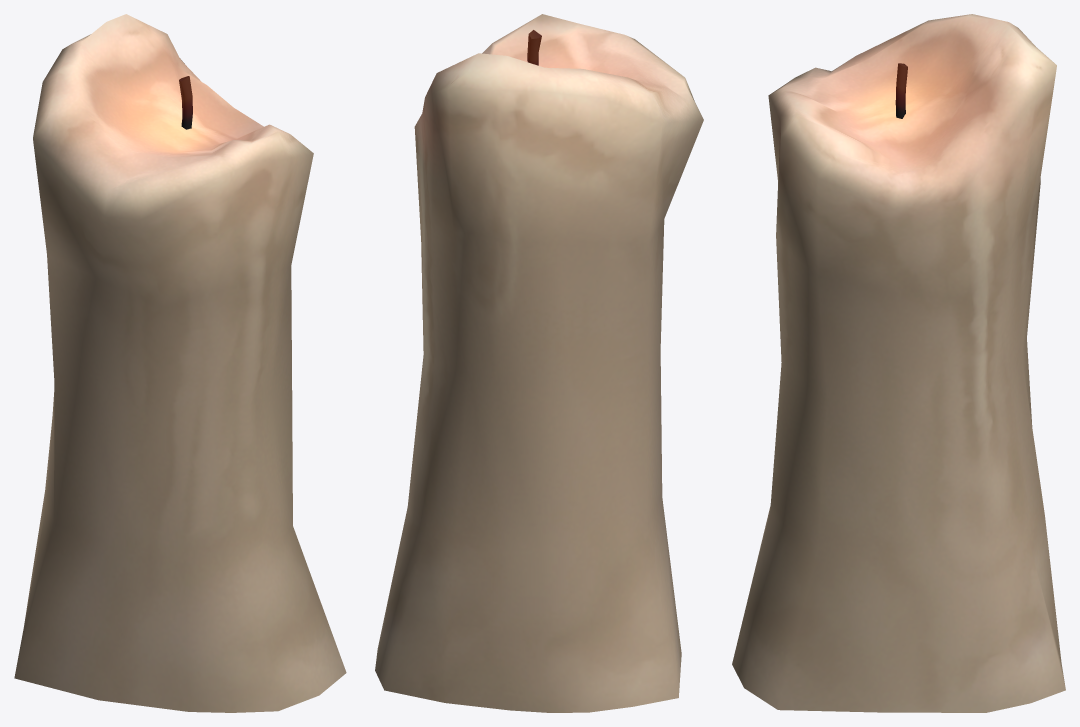
Rendered from SM_Candles_03.fbx.
3 renders of one model, left to right at view 1: azimuth 30°, elevation 25°; view 2: azimuth 150°, elevation 25°; view 3: azimuth 270°, elevation 25°, orthographic. The views are drawn at different scales.
Visible parts, largest first — view 1: SM_Castle_Candle_03_LOD0; view 2: SM_Castle_Candle_03_LOD0; view 3: SM_Castle_Candle_03_LOD0.
Part boxes in pixels (bbox=[...]): SM_Castle_Candle_03_LOD0: bbox=[14, 14, 346, 712]; SM_Castle_Candle_03_LOD0: bbox=[375, 14, 703, 712]; SM_Castle_Candle_03_LOD0: bbox=[732, 14, 1065, 712].
Size of what is drawn, in the model's own units: 0.1628 by 0.3582 by 0.175.
